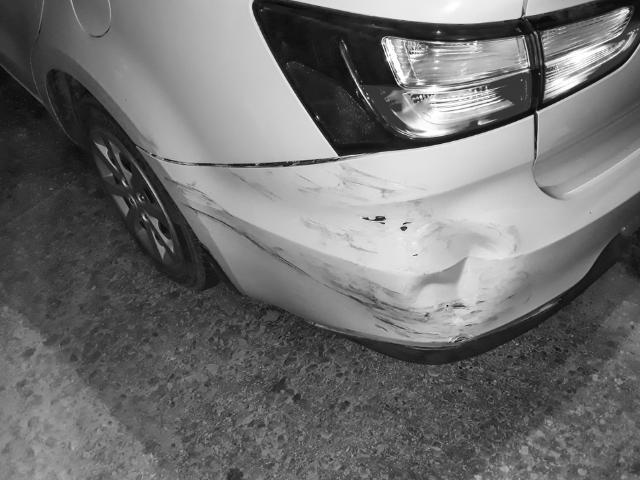Bumper: (194, 157, 577, 348)
